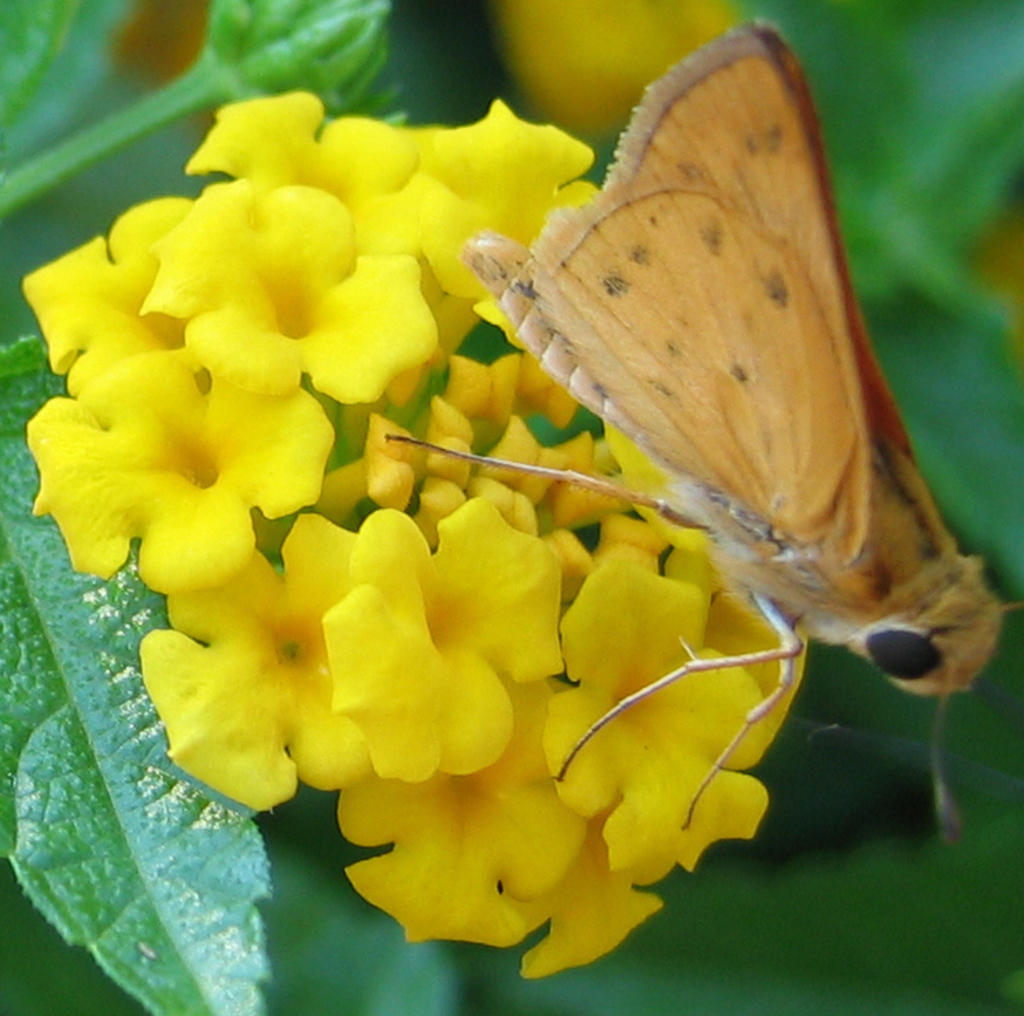Butterfly: (413, 57, 1024, 819)
